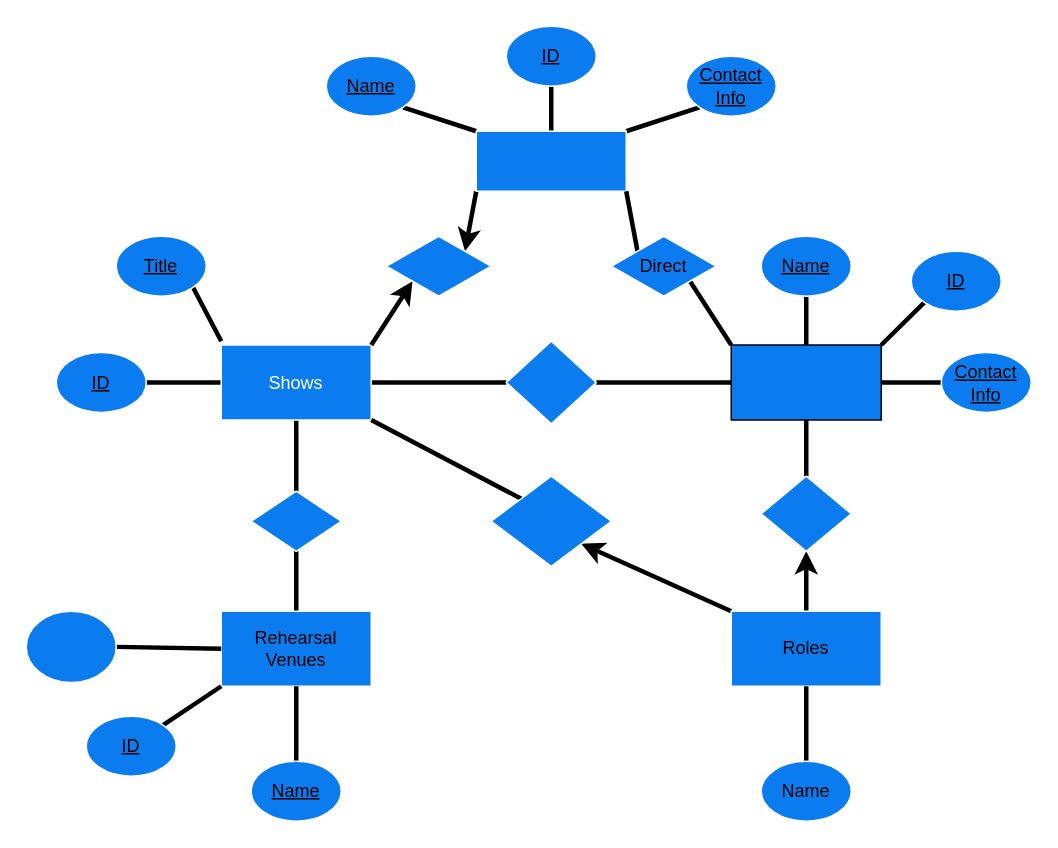
The diagram is 1058 pixels wide and 848 high, and some of its shapes have lost their labels. The centre of each missing label's shape, as x and y in pixels:
"Cast as" belongs at pixel 805 513.
"Cast in" belongs at pixel 550 382.
"Directors" belongs at pixel 550 160.
"Directs" belongs at pixel 438 265.
"Has" belongs at pixel 295 520.
"Location" belongs at pixel 70 646.
"Performers" belongs at pixel 805 382.
"Performs in" belongs at pixel 550 520.
